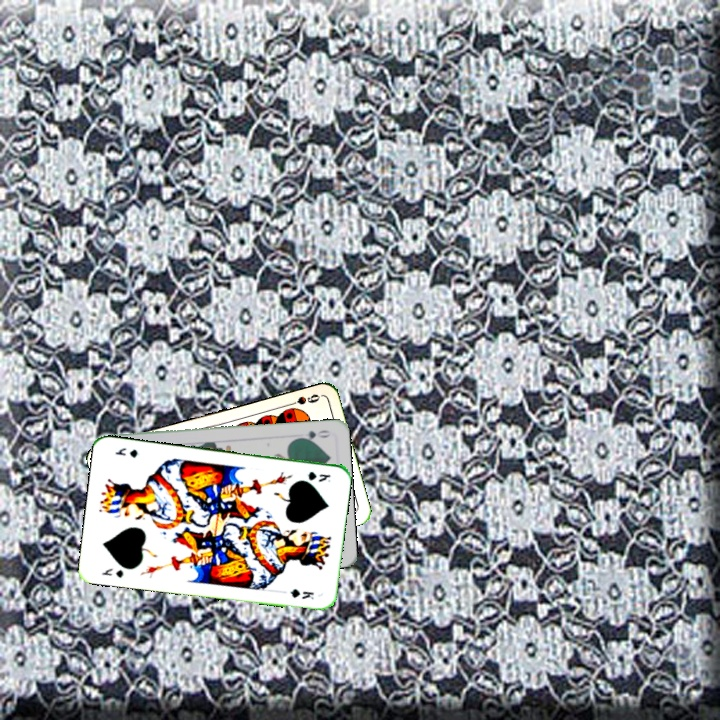GK: (304, 468, 333, 484), (98, 564, 126, 580)
GO: (293, 426, 333, 444)
S9: (282, 390, 323, 409)
